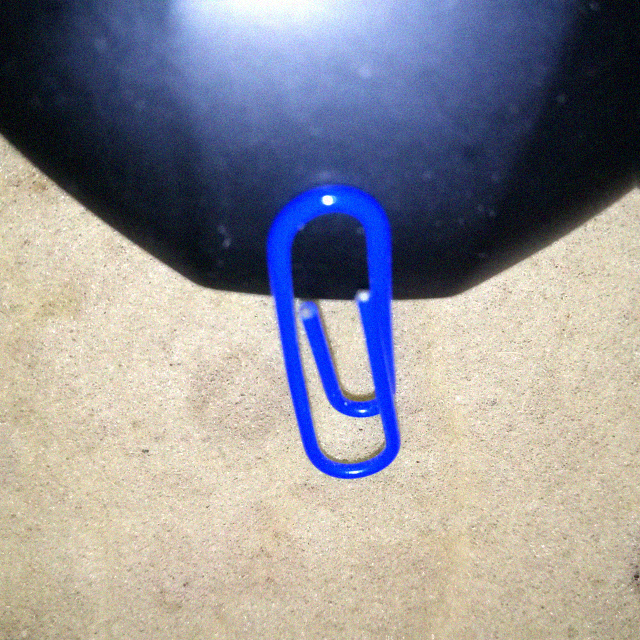pin: (270, 189, 401, 488)
